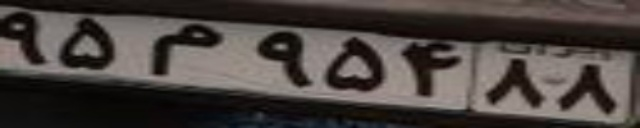4: (399, 41, 460, 96)
5: (322, 37, 382, 91), (56, 17, 117, 69)
8: (486, 56, 544, 108), (557, 63, 614, 115)
9: (254, 31, 309, 88), (0, 9, 46, 66)
mim: (148, 24, 221, 76)
